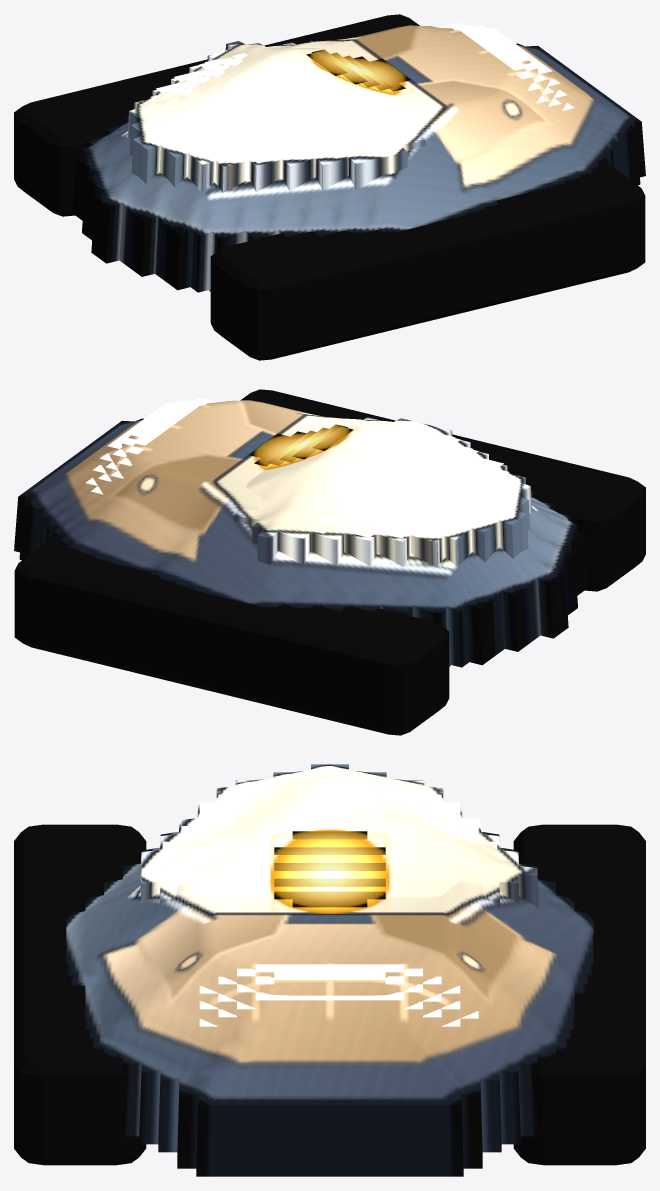
The picture shows the model from 3 angles, top to bottom: view 1: azimuth 30°, elevation 25°; view 2: azimuth 150°, elevation 25°; view 3: azimuth 270°, elevation 25°; orthographic projection. The views are drawn at different scales.
Visible parts, largest first — view 1: chassis-heightfield, locomotion-right, projector-plate-relief, locomotion-left, semantic-team-surfaces, authored-emissive-surfaces; view 2: chassis-heightfield, locomotion-left, projector-plate-relief, locomotion-right, semantic-team-surfaces, authored-emissive-surfaces; view 3: chassis-heightfield, projector-plate-relief, locomotion-right, locomotion-left, semantic-team-surfaces, authored-emissive-surfaces.
Part boxes in pixels (x1,y1,x2,y2): chassis-heightfield: (72,25,645,292); locomotion-right: (210,160,645,360); projector-plate-relief: (128,41,425,192); locomotion-left: (14,14,419,216); semantic-team-surfaces: (150,23,574,163); authored-emissive-surfaces: (306,49,410,91); chassis-heightfield: (14,400,587,667); locomotion-left: (14,535,449,735); projector-plate-relief: (234,417,531,567); locomotion-right: (240,389,645,591); semantic-team-surfaces: (85,398,509,538); authored-emissive-surfaces: (249,424,353,466); chassis-heightfield: (66,831,593,1176); projector-plate-relief: (140,764,538,908); locomotion-right: (14,824,146,1165); locomotion-left: (513,824,645,1165); semantic-team-surfaces: (162,784,497,1026); authored-emissive-surfaces: (274,831,385,907).
Size of the model in its own units: 0.9 by 0.29 by 0.784.
Materials: 5 (4 with a texture image).
